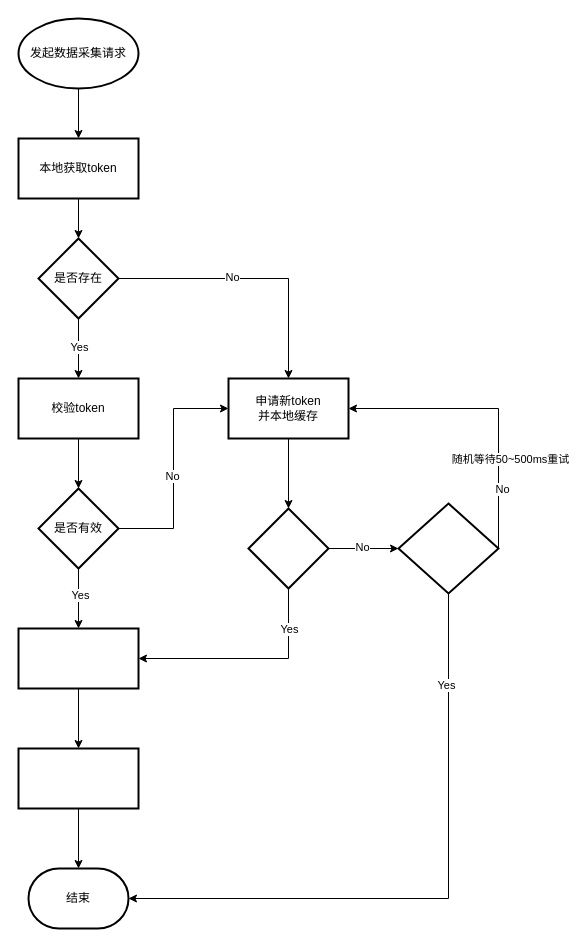
Some shapes in this 586 by 946 pixel diagram are drawn without their labels. The shapes that lost their labels are listed below. From the top down, each one's centre as x and y in pixels, then its label:
pixel 288 548: 是否成功
pixel 448 548: 是否达最大 重试次数
pixel 78 658: 获取本地的目标domain和token
pixel 78 778: 创建数据采集请求，获取返回数据
